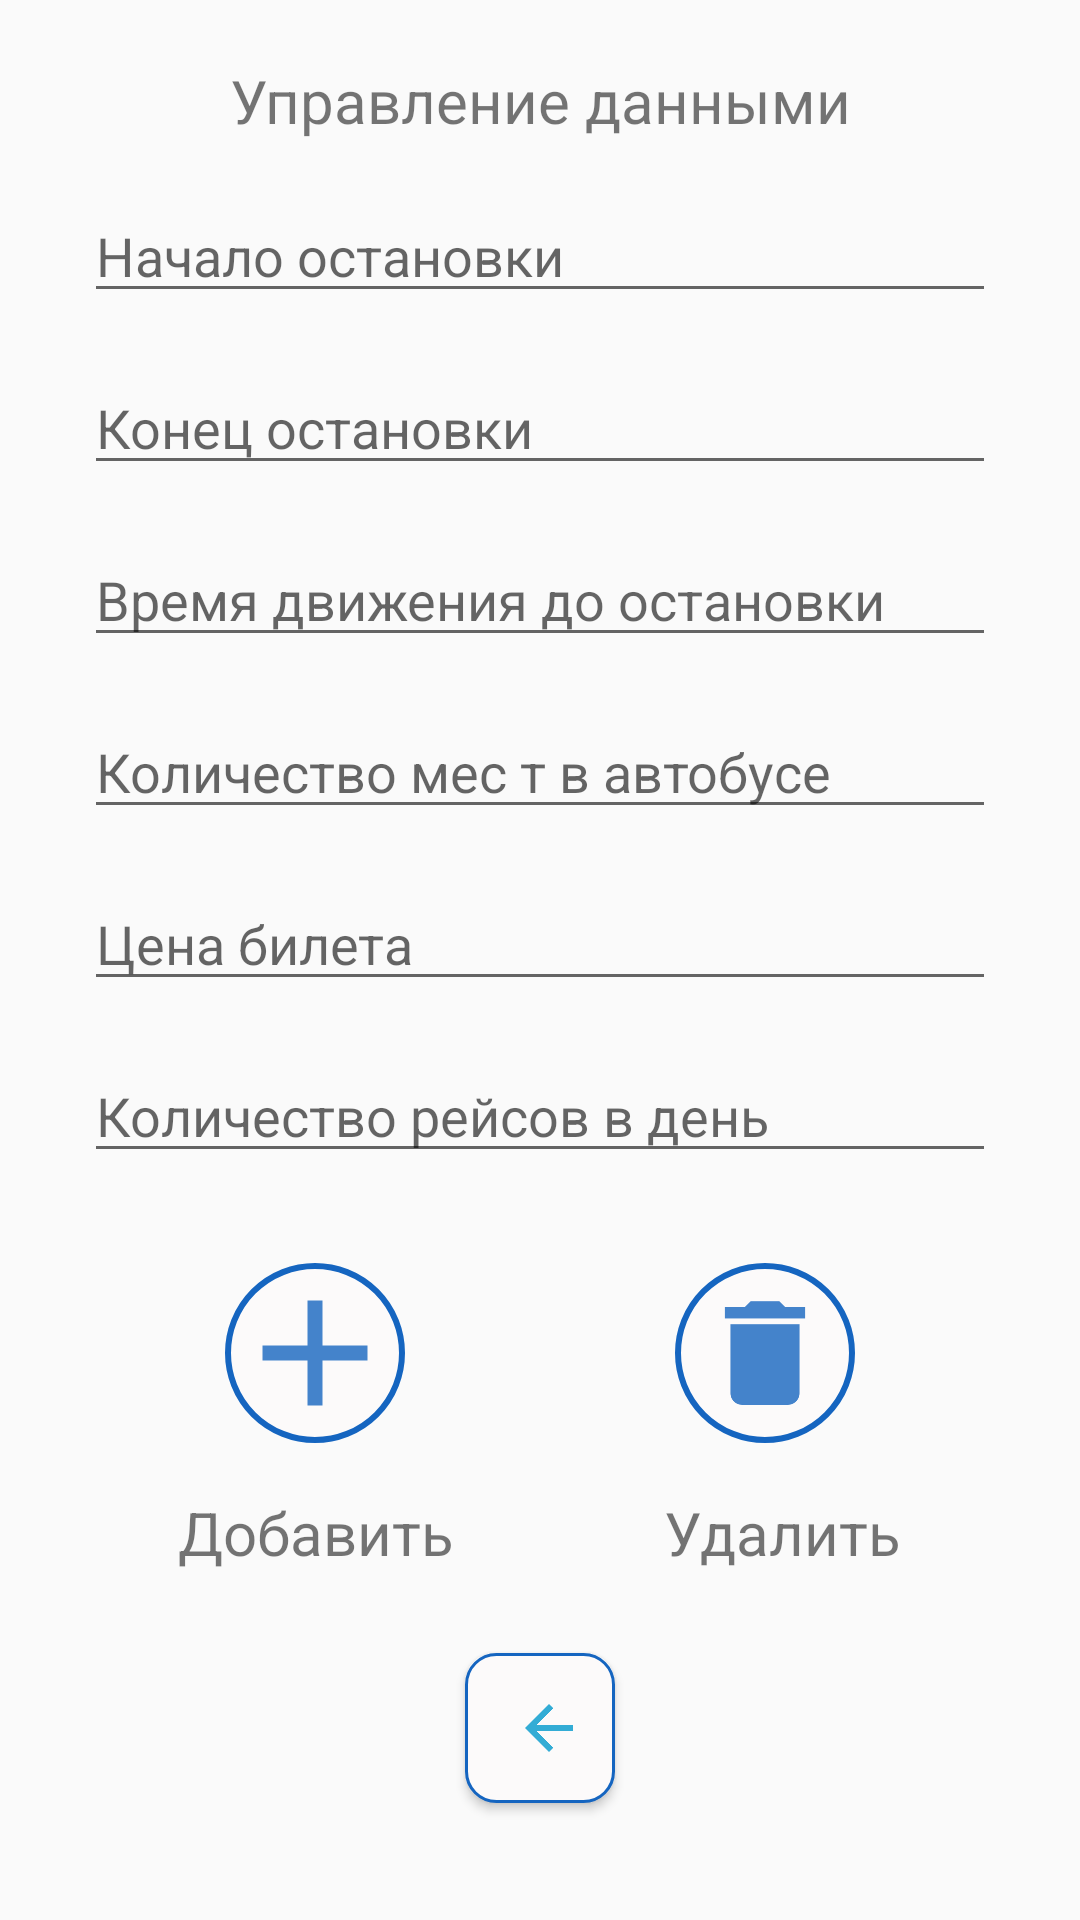

Icons on this 1080px x 1920px Android screen, each with the point to tap as (x,y):
add data: (315,1353)
delet: (765,1353)
